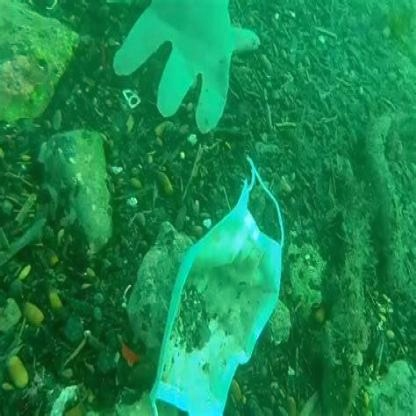Mask: (154, 153, 292, 415)
glove: (110, 0, 260, 139)
